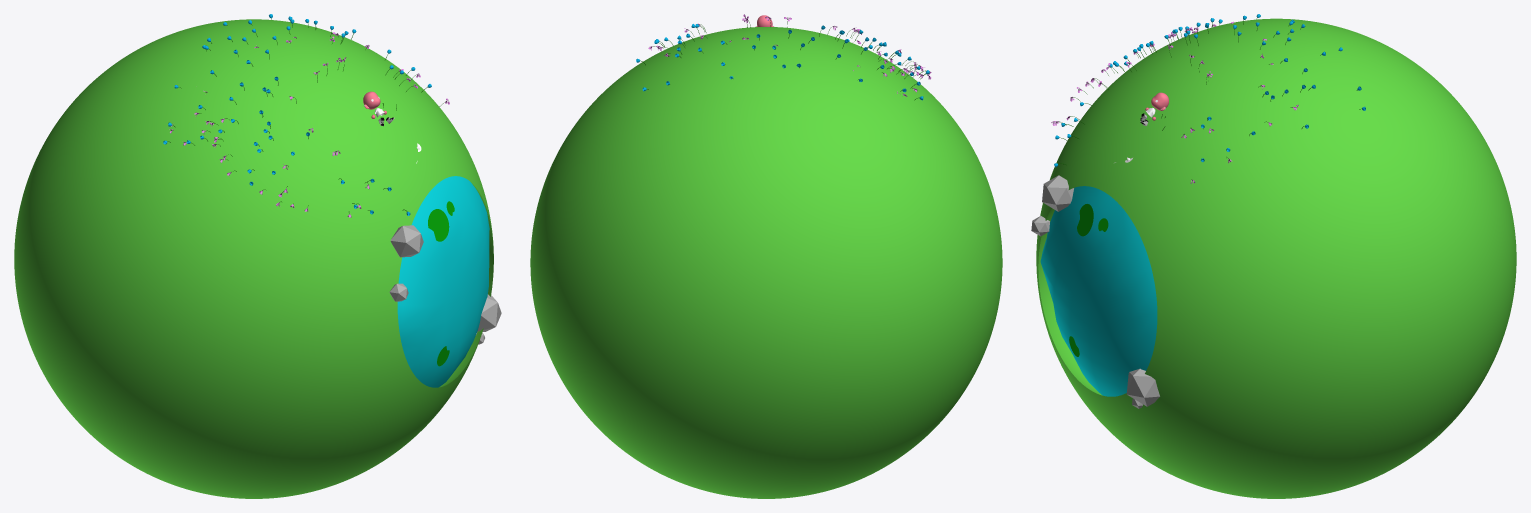
The model's file is about.glb.
3 renders of one model, left to right at view 1: azimuth 30°, elevation 25°; view 2: azimuth 150°, elevation 25°; view 3: azimuth 270°, elevation 25°, orthographic.
Visible parts, largest first — view 1: polySurface73, pSphere41, tulip2Flower, pPlatonic1, irisBlue2Flower, pPlatonic4; view 2: polySurface73, tulip2Flower, irisBlue2Flower; view 3: polySurface73, pSphere41, tulip2Flower, pPlatonic4, pPlatonic1, irisBlue2Flower.
Boxes of the visible parts, <box> form: polySurface73: <box>14,19,493,498</box>; pSphere41: <box>397,176,489,387</box>; tulip2Flower: <box>163,14,431,215</box>; pPlatonic1: <box>390,225,423,257</box>; irisBlue2Flower: <box>169,32,449,217</box>; pPlatonic4: <box>477,294,501,331</box>; polySurface73: <box>530,27,1002,498</box>; tulip2Flower: <box>636,24,929,100</box>; irisBlue2Flower: <box>648,14,931,96</box>; polySurface73: <box>1036,18,1516,498</box>; pSphere41: <box>1040,186,1157,396</box>; tulip2Flower: <box>1054,14,1365,167</box>; pPlatonic4: <box>1126,368,1159,406</box>; pPlatonic1: <box>1042,175,1073,211</box>; irisBlue2Flower: <box>1051,21,1298,183</box>.
Bounding box in the file's own units: 35.31 × 35.88 × 35.68.
